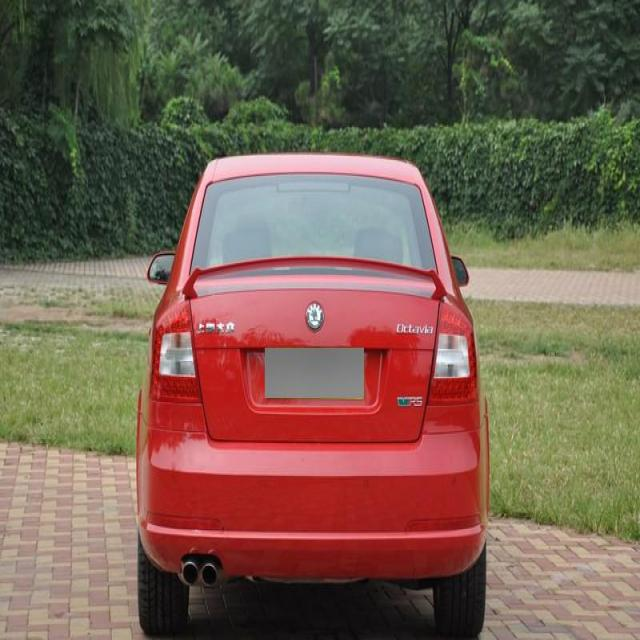back_glass: (186, 170, 440, 280)
back_left_side_light: (148, 298, 203, 408)
back_right_side_light: (423, 291, 480, 405)
front_left_side_mirror: (146, 250, 180, 290)
front_right_side_mirror: (446, 246, 472, 292)
rear_bumper: (134, 405, 490, 583)
